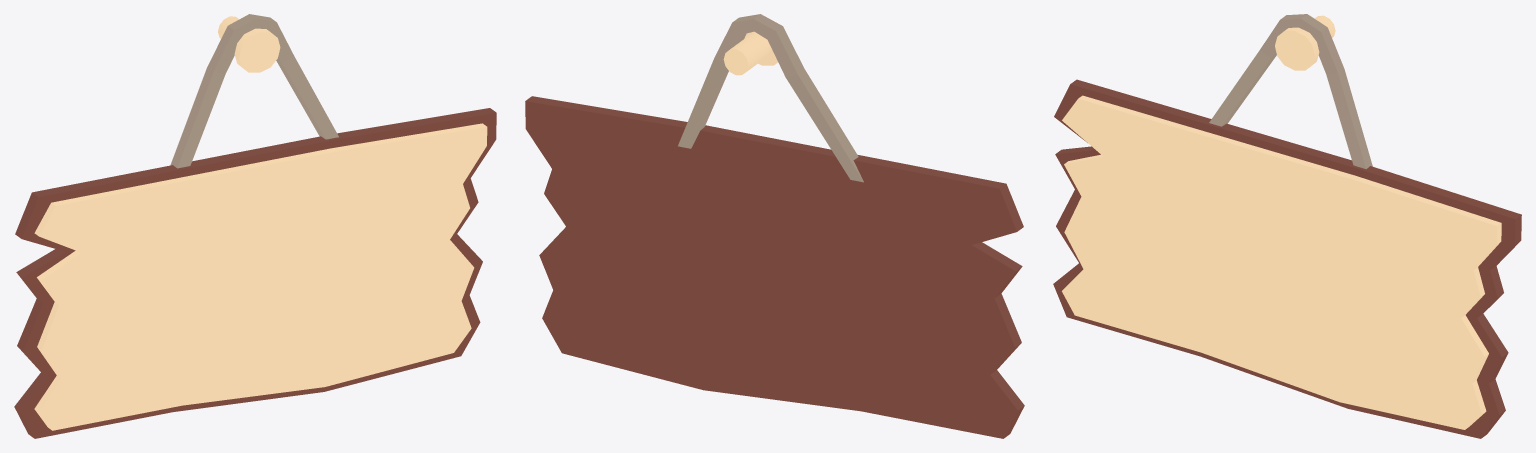
The model's file is wepfishingsign.glb.
3 views of the same model, side by side, from view 1: azimuth 30°, elevation 25°; view 2: azimuth 150°, elevation 25°; view 3: azimuth 330°, elevation 25° (orthographic). The views are drawn at different scales.
Parts seen in each view (by area): view 1: Cube.002, Cube, Cube.001, Cylinder; view 2: Cube, Cube.001, Cylinder; view 3: Cube.002, Cube, Cube.001, Cylinder.
Part boxes in pixels (x1=…): Cube.002: x1=34, y1=123, x2=487, y2=430; Cube: x1=14, y1=108, x2=496, y2=438; Cube.001: x1=170, y1=14, x2=338, y2=168; Cylinder: x1=218, y1=16, x2=280, y2=72; Cube: x1=525, y1=96, x2=1024, y2=438; Cube.001: x1=678, y1=14, x2=863, y2=182; Cylinder: x1=723, y1=31, x2=777, y2=75; Cube.002: x1=1062, y1=95, x2=1501, y2=429; Cube: x1=1053, y1=79, x2=1521, y2=438; Cube.001: x1=1209, y1=14, x2=1372, y2=168; Cylinder: x1=1275, y1=15, x2=1335, y2=70.
Bounding box in the file's own units: 4.14 × 3.16 × 0.5962.
